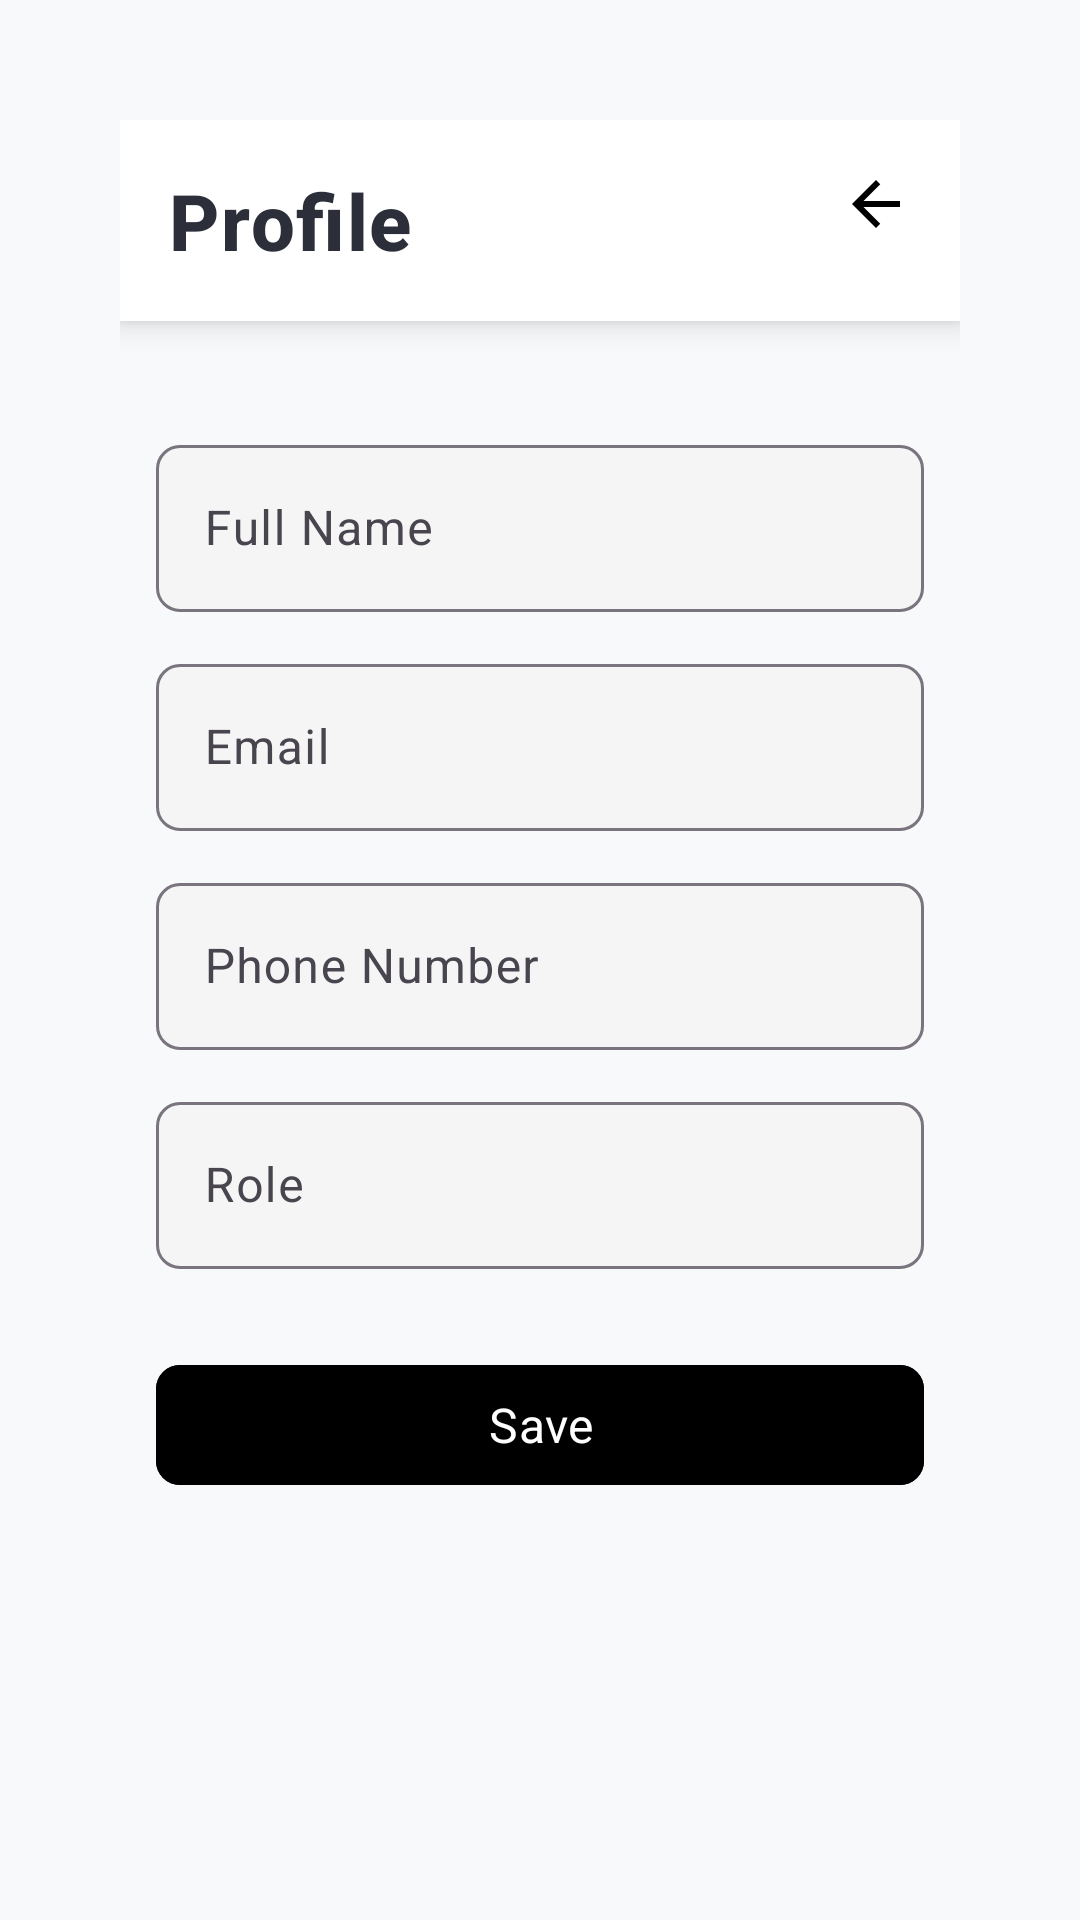

Point at icon controls on the screen. Image size 1080px×1920px, points as (x,y).
Go back: (876,204)
